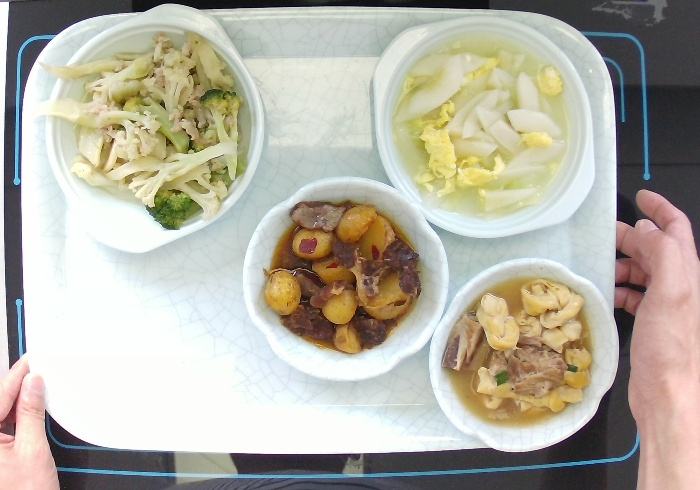JYsf-Ao_Yuan_Wan: (239, 172, 453, 384), (426, 253, 622, 455)
JYsf-Shuang_Er_Pan: (42, 1, 270, 256), (368, 11, 599, 242)
